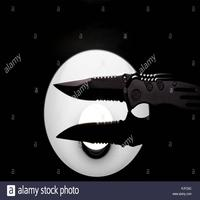knife: (47, 66, 200, 111)
